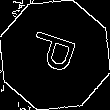P_E: (25, 29, 85, 81)
